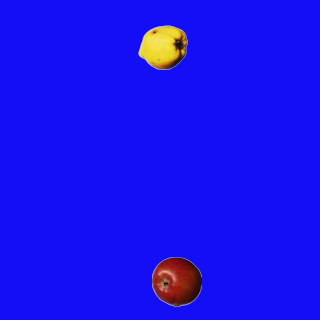Apple Braeburn: (151, 256, 201, 306)
Quince: (137, 22, 187, 72)
